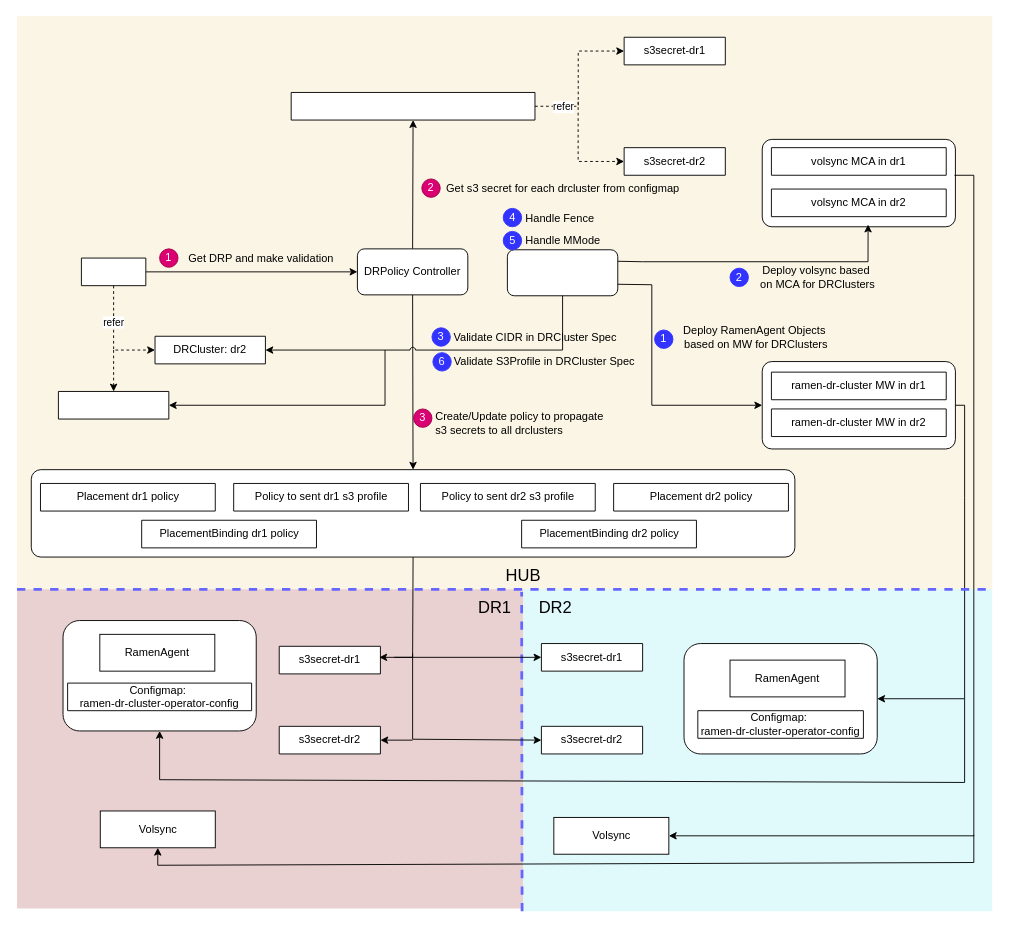
This 1010x929 diagram has some shape labels left out. Here are the shapes that lost their labels. From the top down, the centre of each, then its label:
(x=412, y=106): Configmap: ramen-hub-operator-config
(x=113, y=271): DRP
(x=562, y=272): DRCluster Controller
(x=113, y=405): DRCluster: dr1
